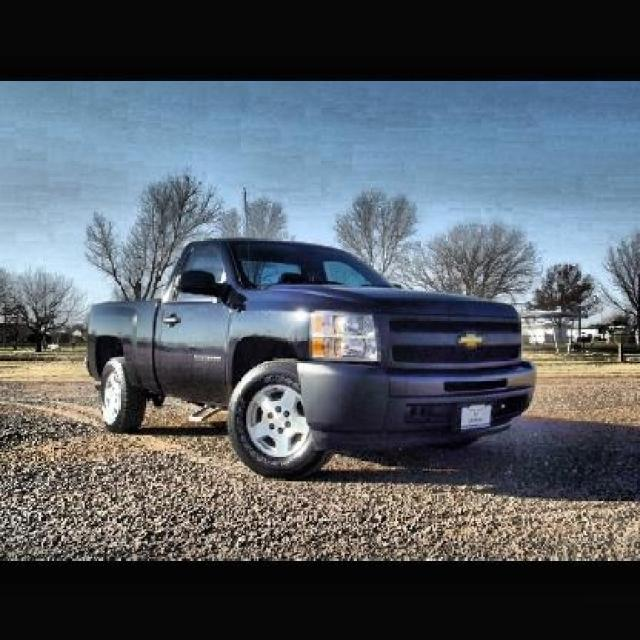black: (81, 199, 611, 439)
